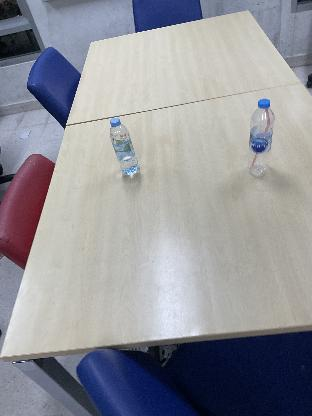Plastic Bottle: (247, 97, 275, 179), (110, 116, 142, 178)
